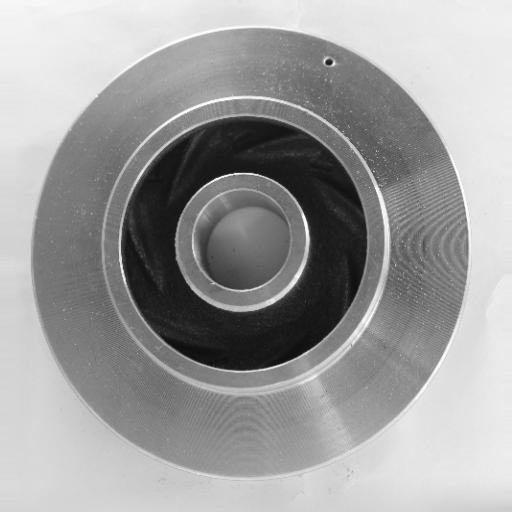pit: (309, 49, 343, 77)
unpolished_casting: (29, 24, 469, 484)
